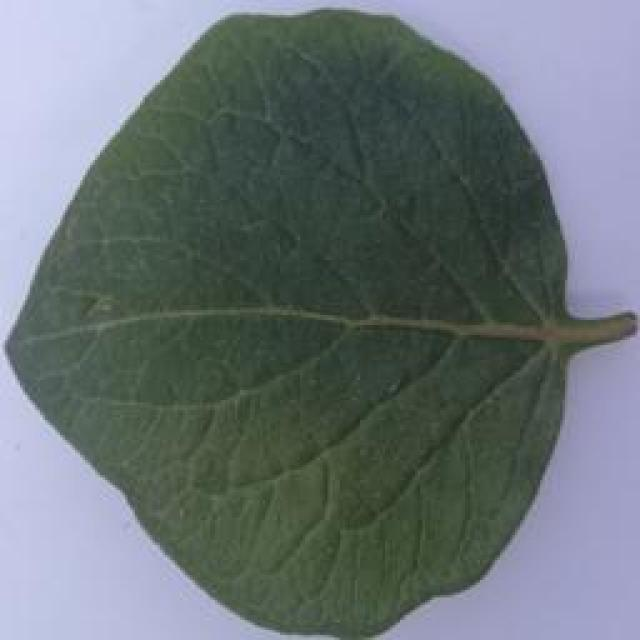Potato_Healthy: (4, 11, 628, 634)
